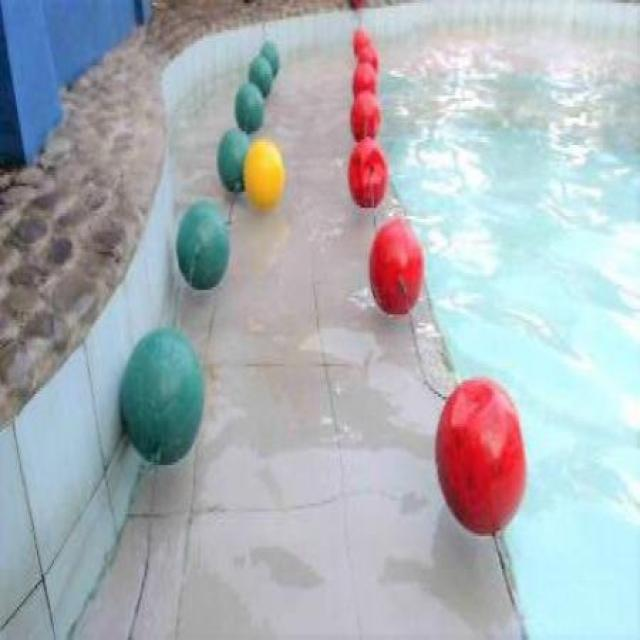buoy: (434, 374, 526, 533), (118, 326, 205, 468), (367, 219, 424, 317), (177, 199, 230, 293), (242, 140, 284, 210), (346, 136, 386, 208), (216, 129, 250, 194), (232, 79, 263, 134), (349, 89, 381, 141), (247, 52, 272, 96), (352, 58, 376, 96), (355, 39, 377, 71), (259, 40, 279, 75)
